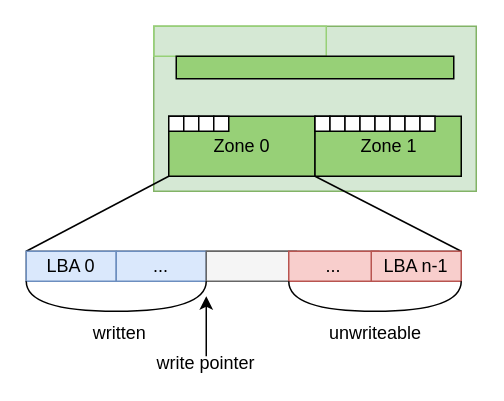
Some shapes in this 504 by 401 pixel diagram are drawn without their labels. Here are the shapes that lost their labels. From the top down, the box of each, then its label:
(152, 25, 326, 56): Zoned SSD
(175, 55, 454, 79): LBA
(205, 250, 296, 281): ZSLBA
